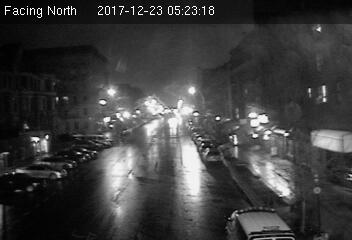car: (201, 147, 225, 166)
police: (227, 200, 294, 240)
